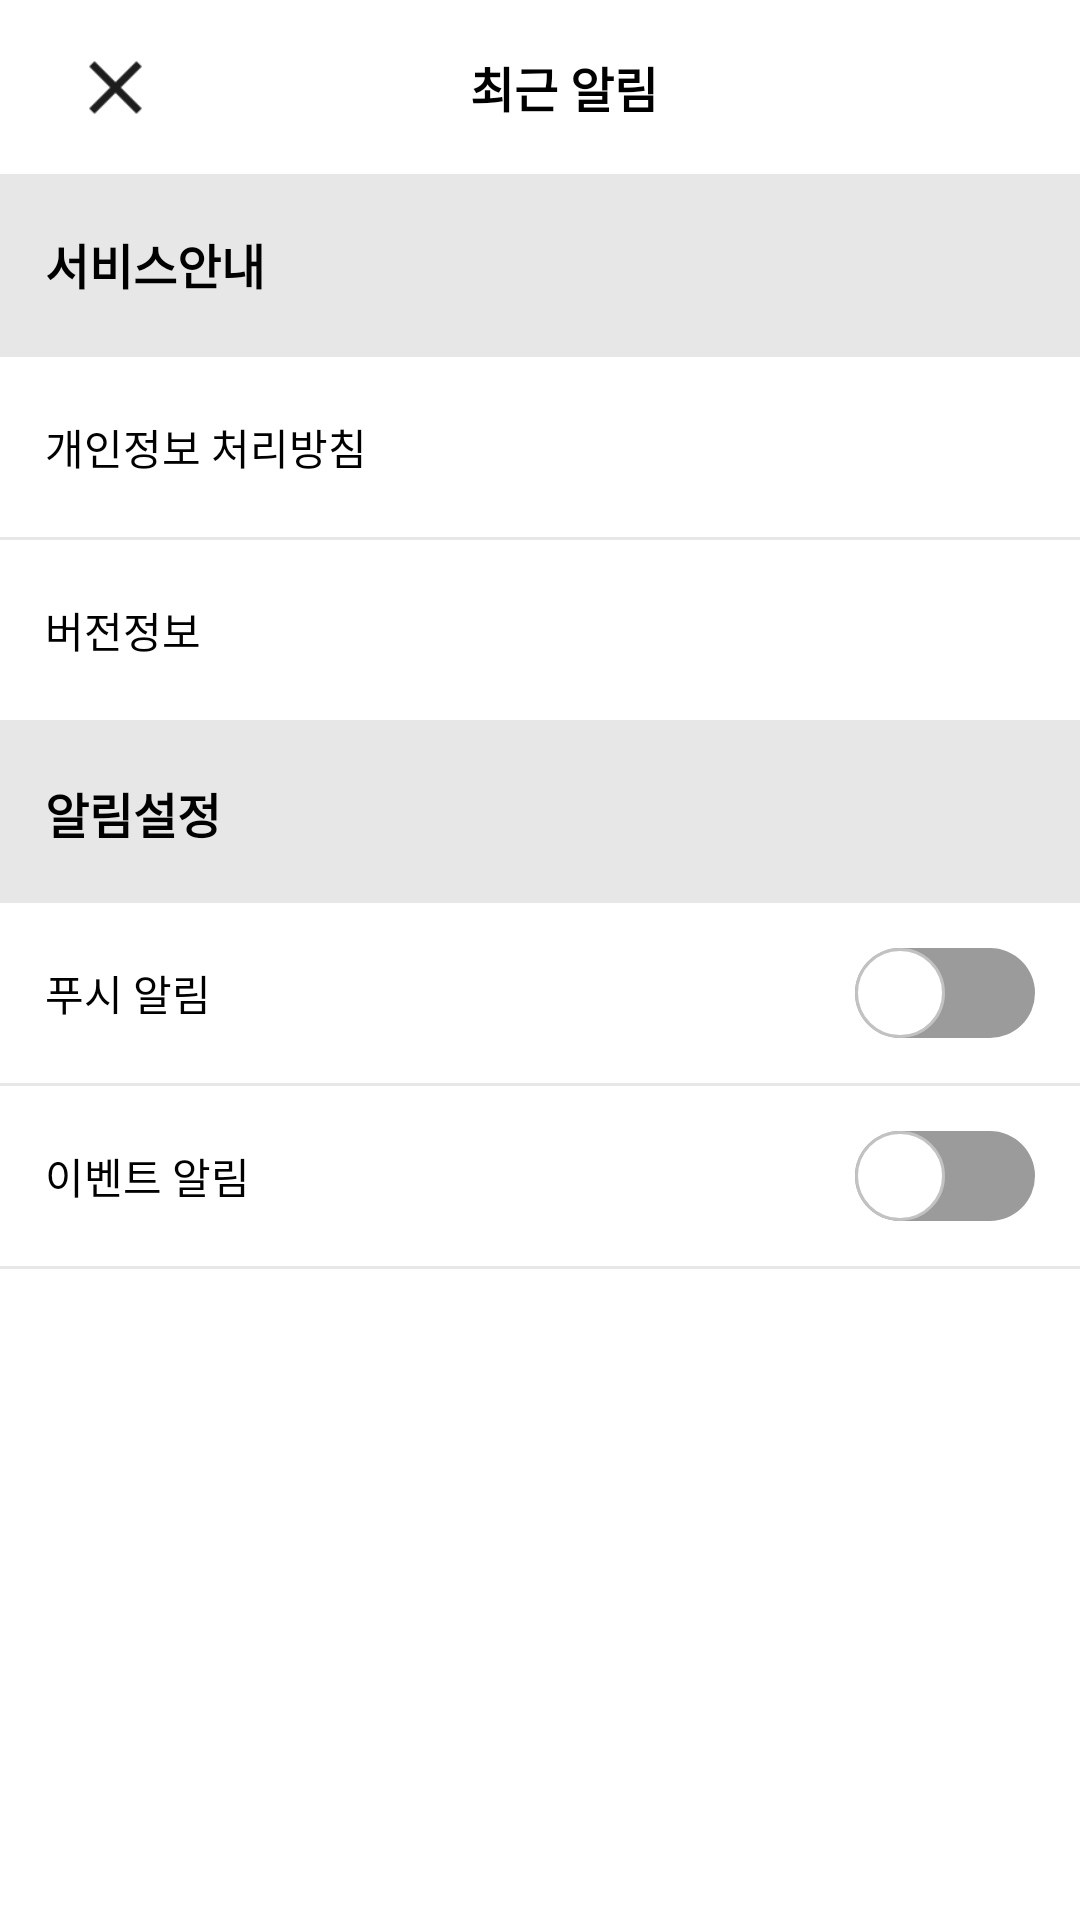

Named icons in this screenshot (1080x1920) and their bounding boxes, {"left": x1, "top": y1, "right": x2, "bottom": y2}:
close: {"left": 89, "top": 61, "right": 142, "bottom": 114}
